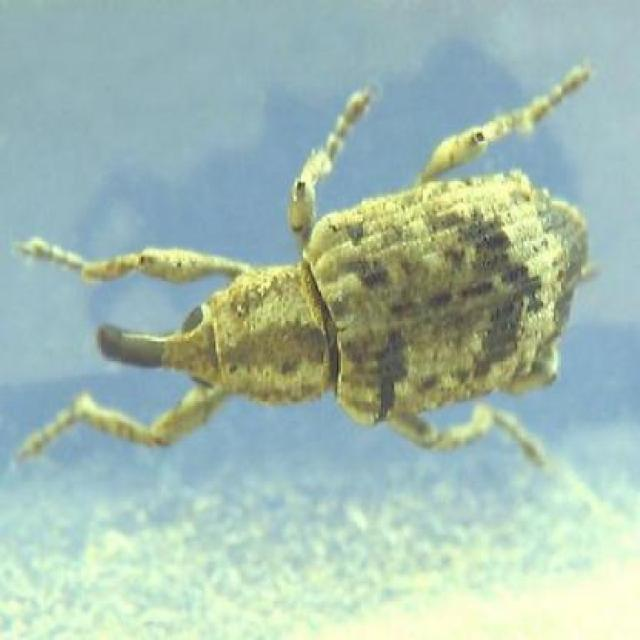rice-bug: (85, 163, 601, 459)
